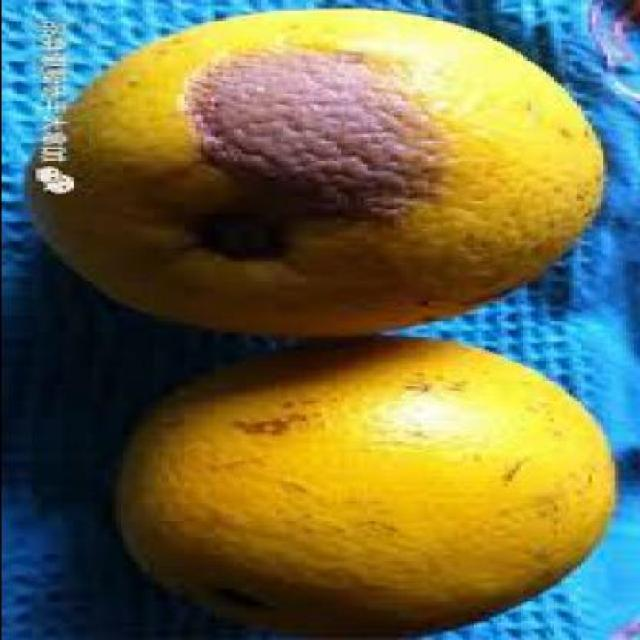BIODEGRADABLE: (31, 8, 605, 335)
